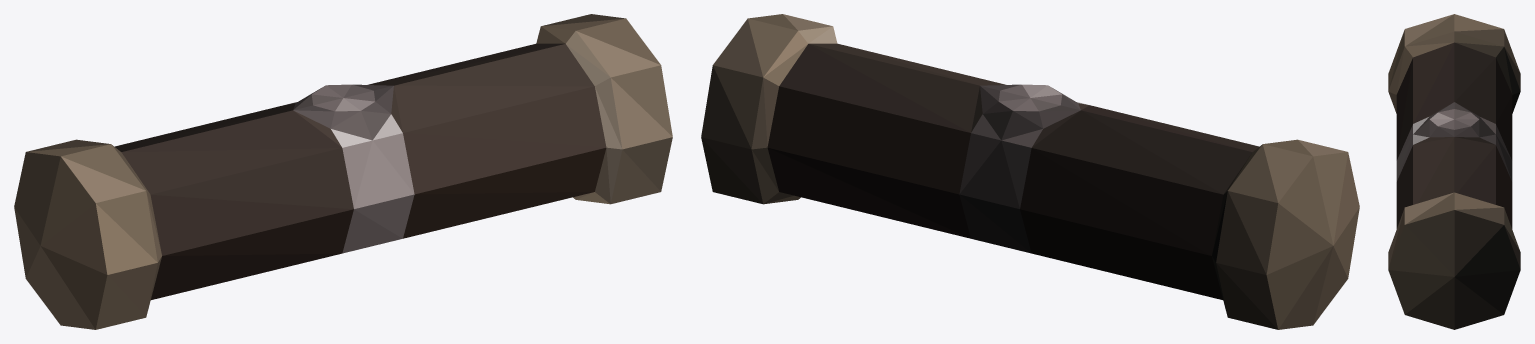
File: ancient-plans.obj
The picture shows the model from 3 angles, left to right: view 1: azimuth 30°, elevation 25°; view 2: azimuth 150°, elevation 25°; view 3: azimuth 270°, elevation 25°; orthographic projection. The views are drawn at different scales.
Visible parts, largest first — view 1: Item Scroll box (beginner) 2026-10-24_20-42-38; view 2: Item Scroll box (beginner) 2026-10-24_20-42-38; view 3: Item Scroll box (beginner) 2026-10-24_20-42-38.
Boxes of the visible parts, x1=… form: Item Scroll box (beginner) 2026-10-24_20-42-38: x1=14, y1=14, x2=672, y2=329; Item Scroll box (beginner) 2026-10-24_20-42-38: x1=701, y1=14, x2=1359, y2=329; Item Scroll box (beginner) 2026-10-24_20-42-38: x1=1388, y1=14, x2=1520, y2=329.
Size of the model in its own units: 60 by 16 by 16.
